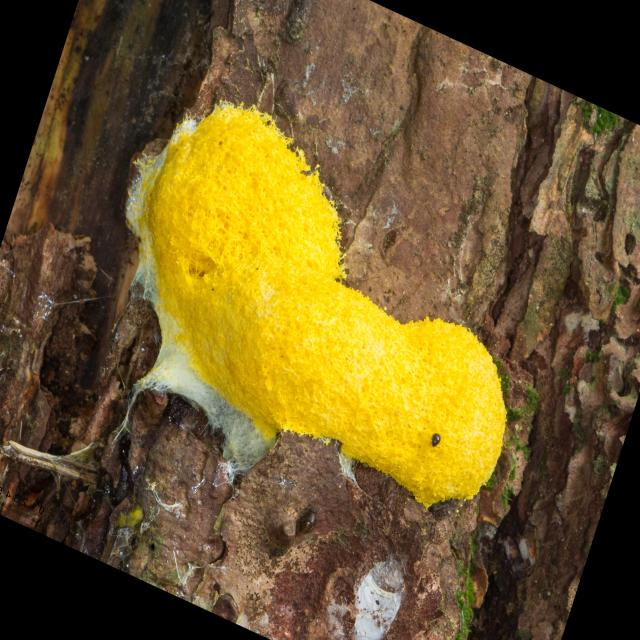Dog_vomit_slime_mold: (107, 54, 532, 550)
